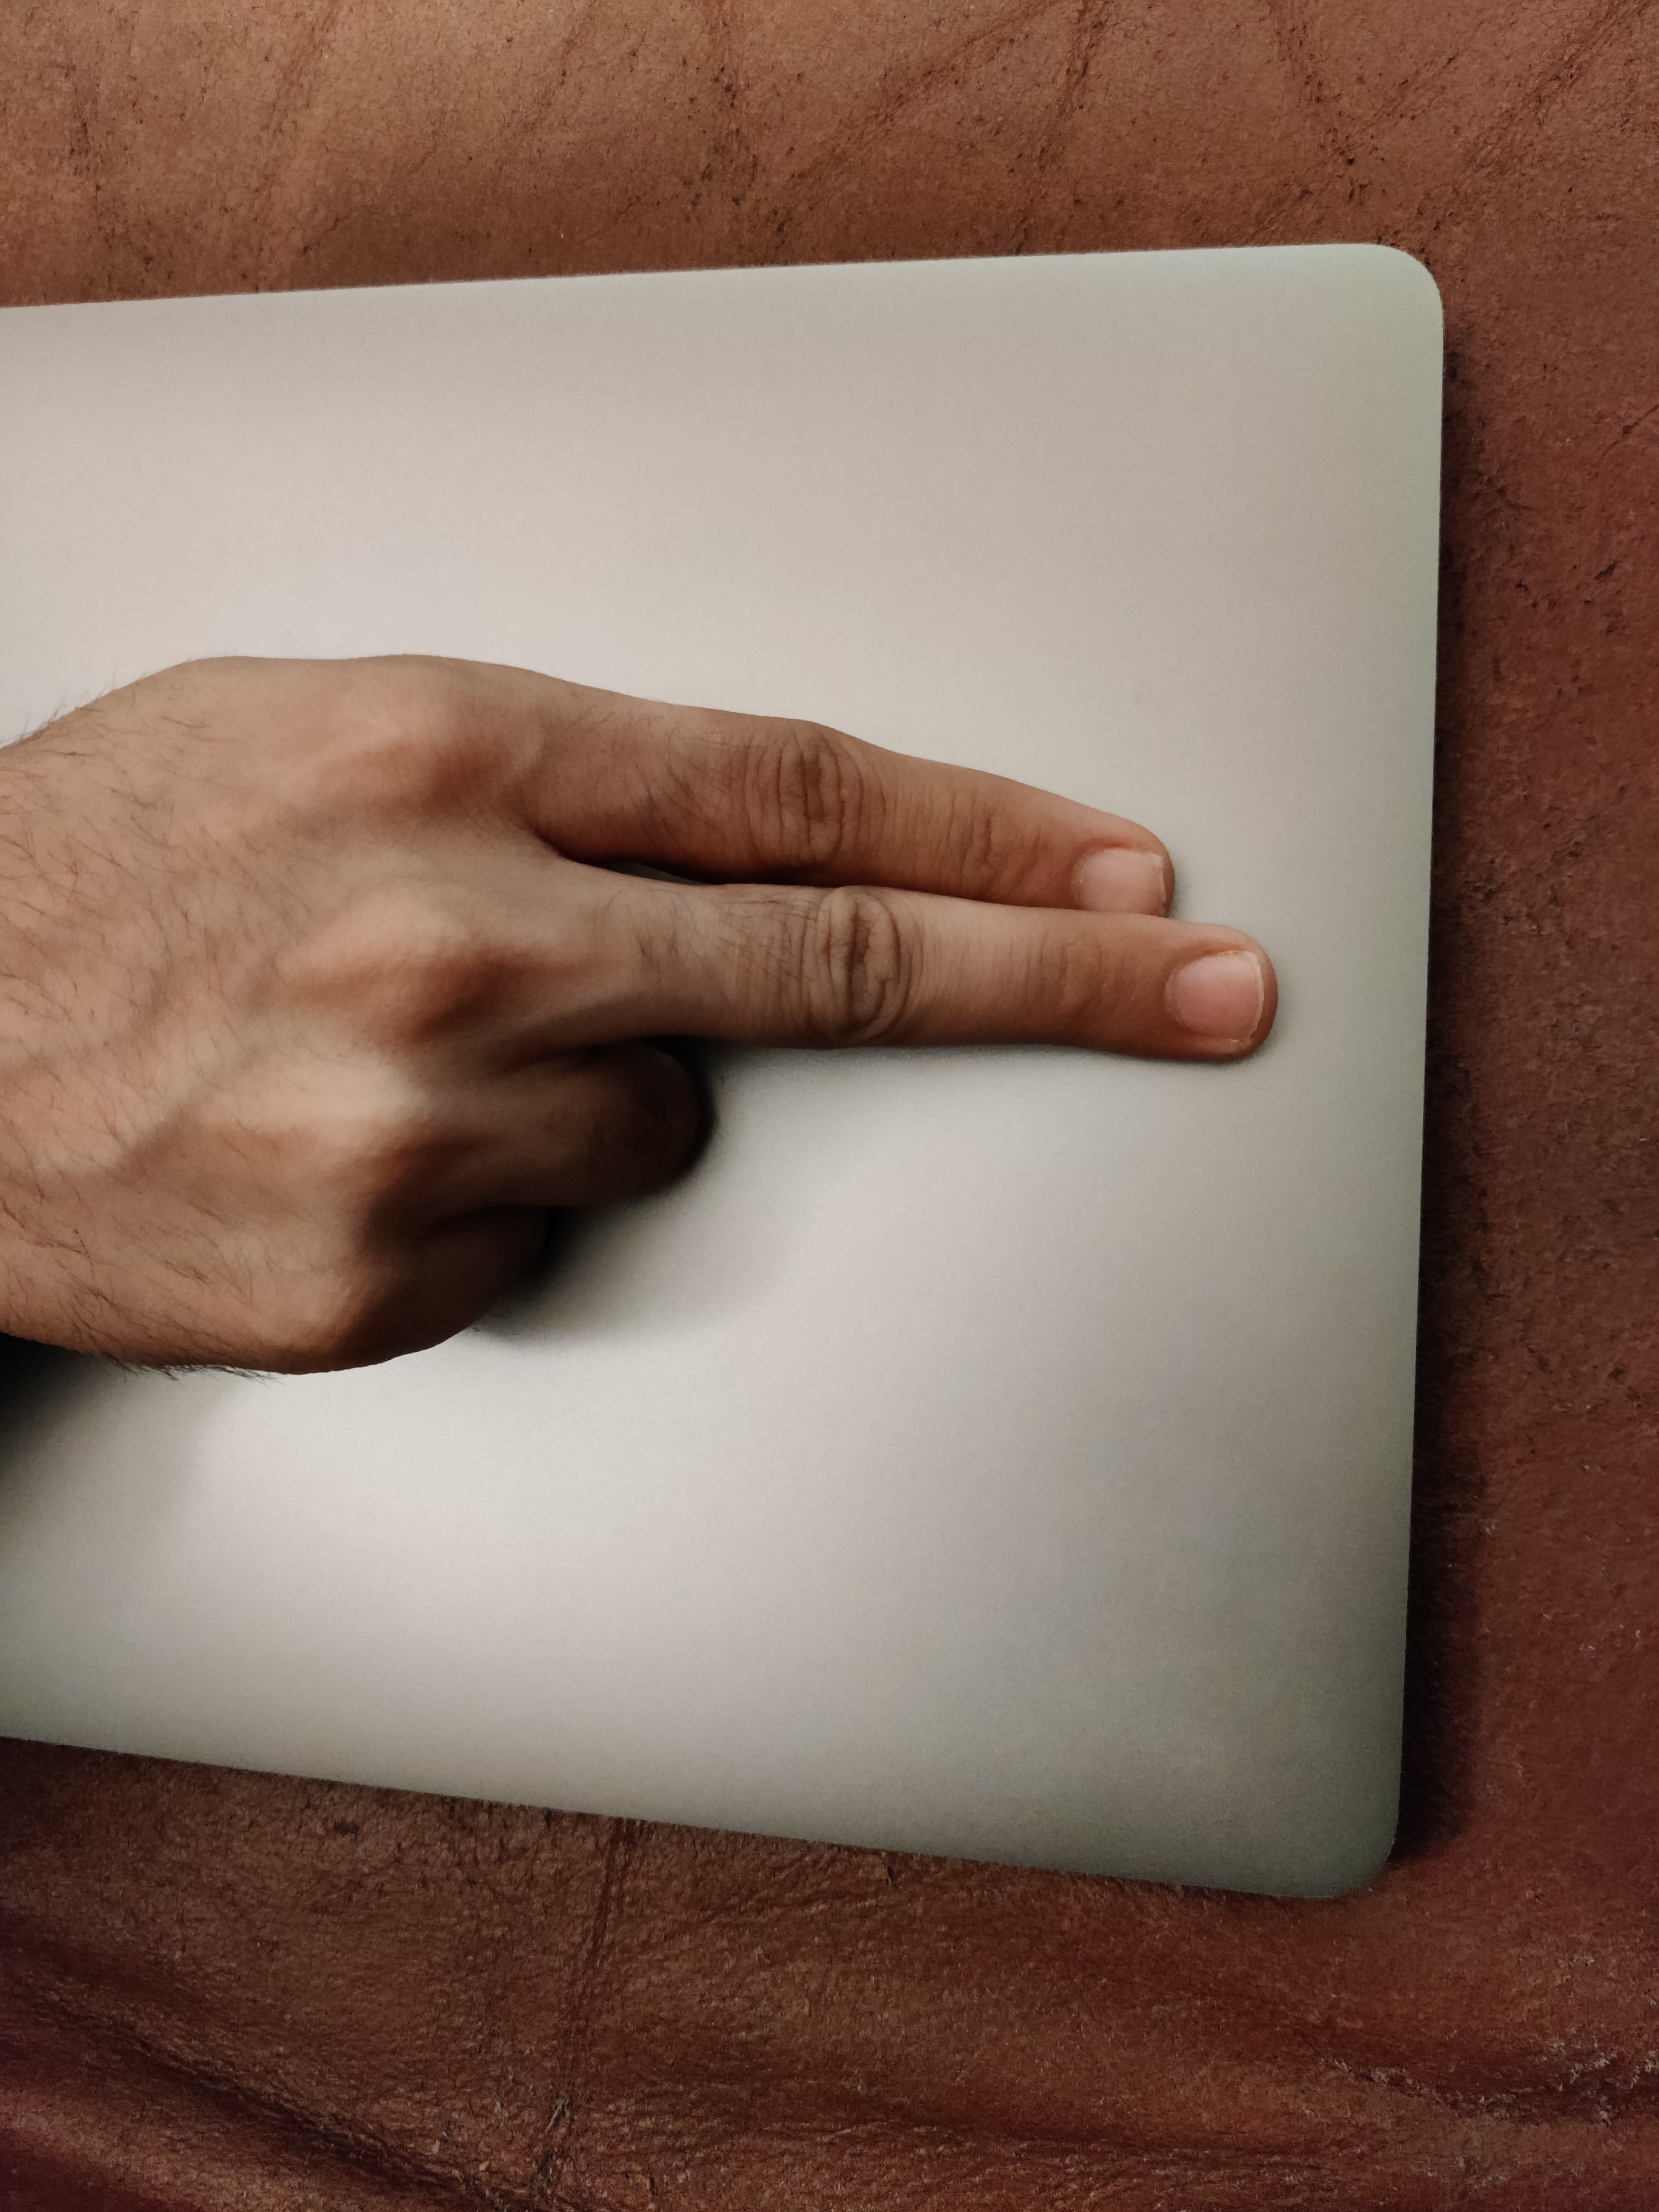left: (10, 230, 1535, 1630)
